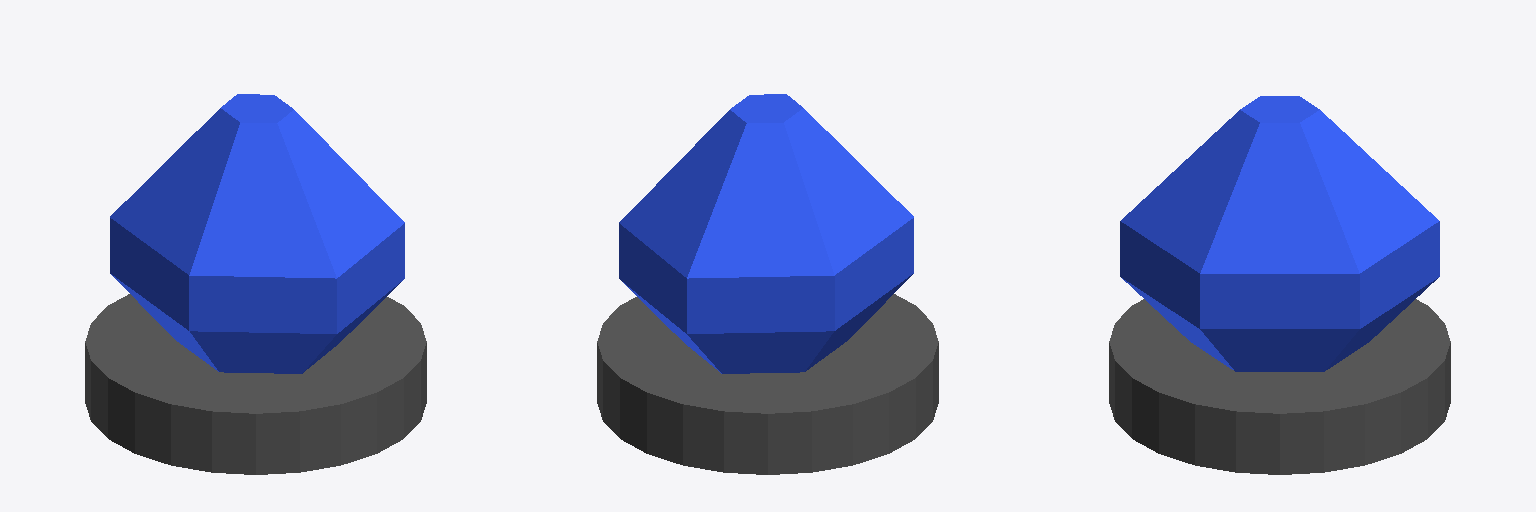
File: gems_sapphire_4.obj
The picture shows the model from 3 angles: view 1: azimuth 30°, elevation 25°; view 2: azimuth 150°, elevation 25°; view 3: azimuth 270°, elevation 25°; orthographic projection.
Parts seen in each view (by area): view 1: mergedBlocks; view 2: mergedBlocks; view 3: mergedBlocks.
Part boxes in pixels (bbox=[...]): mergedBlocks: bbox=[85, 94, 426, 474]; mergedBlocks: bbox=[597, 94, 938, 474]; mergedBlocks: bbox=[1109, 96, 1450, 474].
Bounding box in the file's own units: 1 × 0.95 × 1.